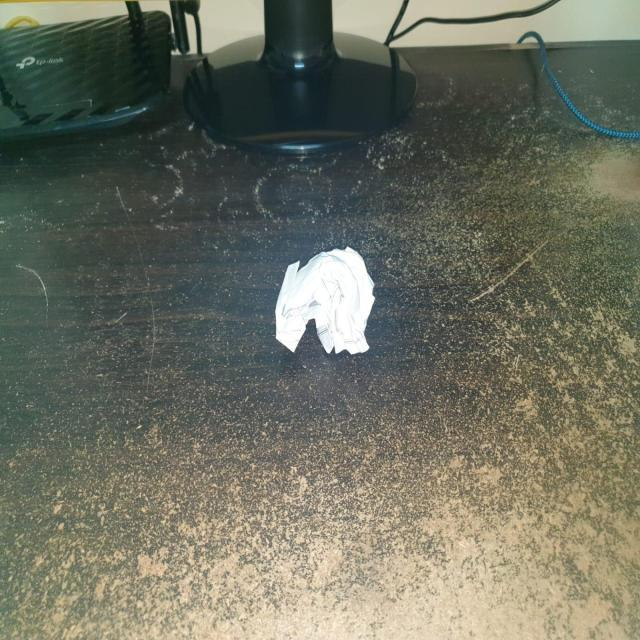cardboard paper: (274, 246, 373, 352)
